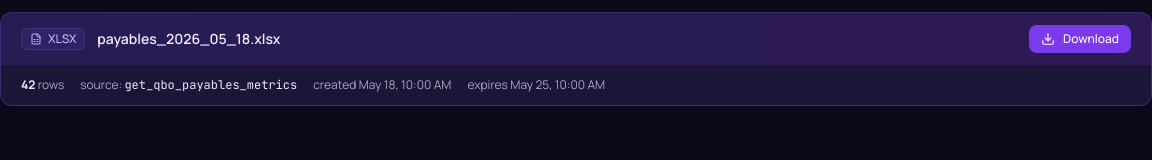
Test: FinanceExportArtifact error envelopes › 401 shows the not authorised message
The width and height of the screenshot is (1152, 160).
Step 1. Click the button with test id "finance-export-download" → point(1080, 39), box [1029,25,1131,53]
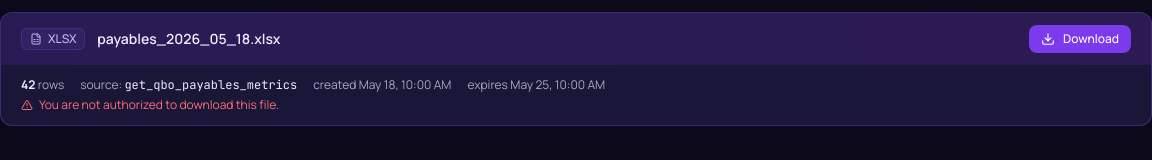
Expected: the element with test id "finance-export-error" is shown, [21,96,279,113]
Expected: the element with test id "finance-export-error" reads "You are not authorized to download this file.", [39,96,279,113]
